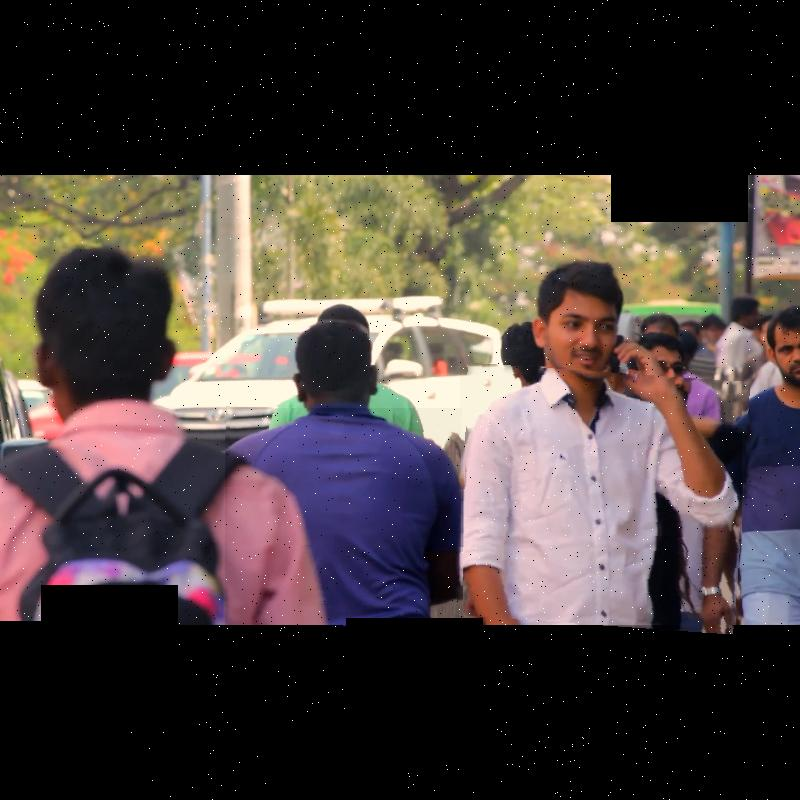Shirt: (460, 367, 742, 629)
Tshirt: (225, 409, 461, 627)
